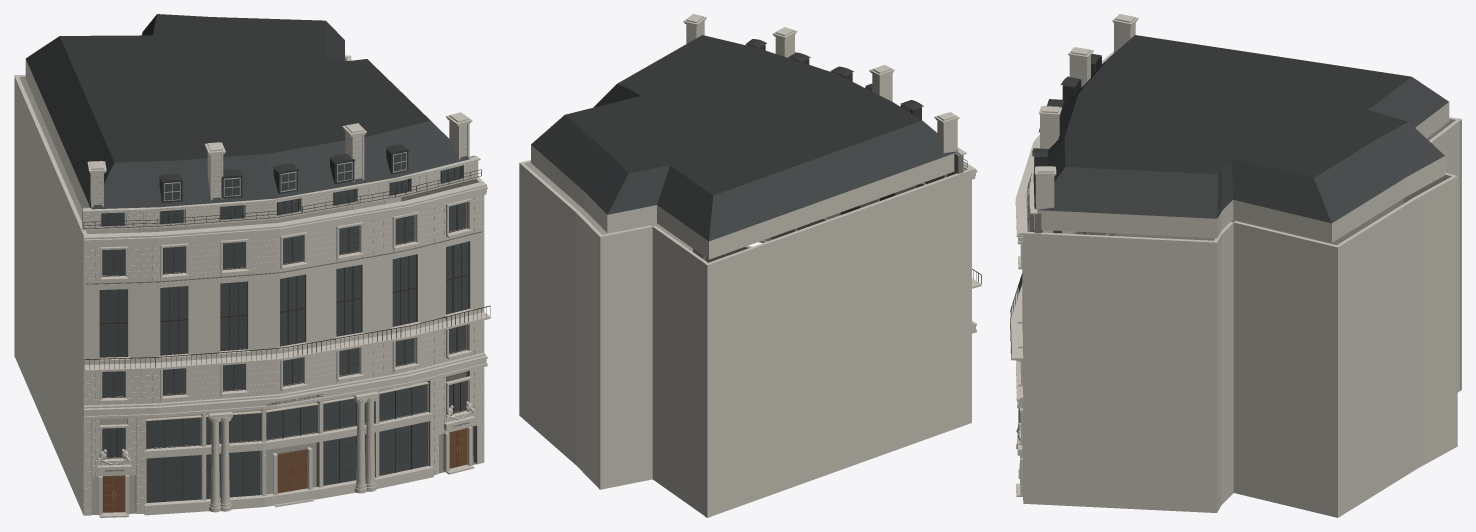
The model's file is clm-exterior-67920be3722d.glb.
3 views of the same model, side by side, from view 1: azimuth 30°, elevation 25°; view 2: azimuth 150°, elevation 25°; view 3: azimuth 270°, elevation 25° (orthographic). The views are drawn at different scales.
Parts seen in each view (by area): view 1: CLM.001; view 2: CLM.001; view 3: CLM.001.
Part boxes in pixels (x1,y1,x2,y2): CLM.001: (14,14,490,517); CLM.001: (519,14,981,517); CLM.001: (1010,14,1461,517).
Bounding box in the file's own units: 33.24 × 28.79 × 34.59.
